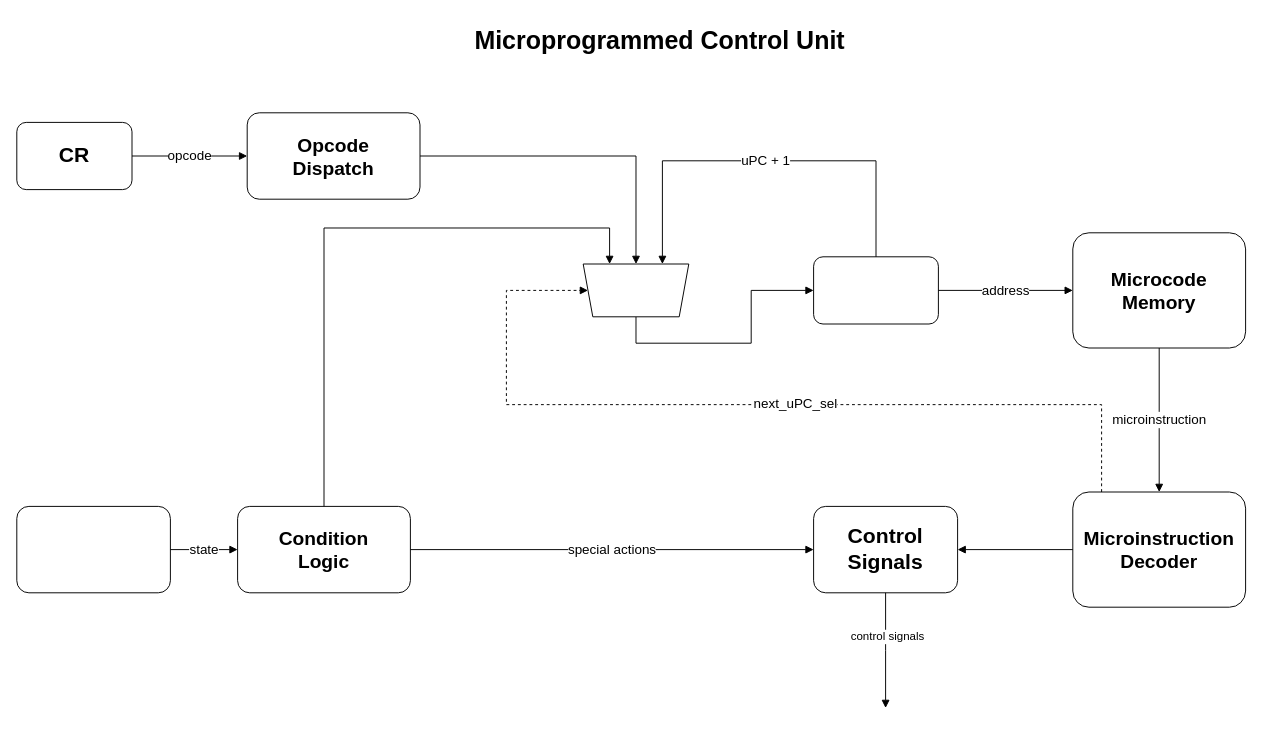
This 1262x732 diagram has some shape labels left out. Each missing label, with the box of its shape:
next uPC MUX: (582, 263, 689, 317)
PS / DR / AR state: (16, 505, 170, 593)
uPC: (813, 256, 938, 324)
